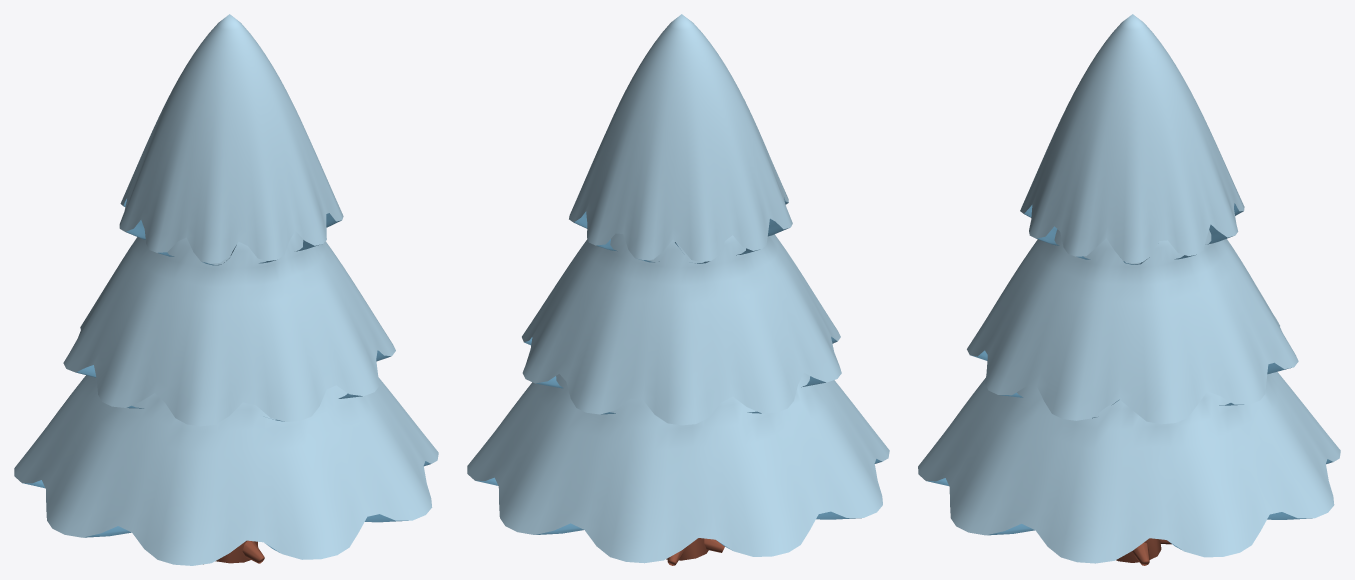
File: pine_3.glb
3 views of the same model, side by side, from view 1: azimuth 30°, elevation 25°; view 2: azimuth 150°, elevation 25°; view 3: azimuth 270°, elevation 25° (orthographic).
Parts seen in each view (by area): view 1: pine_3; view 2: pine_3; view 3: pine_3.
Part boxes in pixels (left/top/right/bottom): pine_3: left=14, top=14, right=438, bottom=565; pine_3: left=467, top=14, right=889, bottom=565; pine_3: left=918, top=14, right=1340, bottom=565.
Size of the model in its own units: 2.37 by 3.3 by 2.36.
3 materials, 3 textured.
